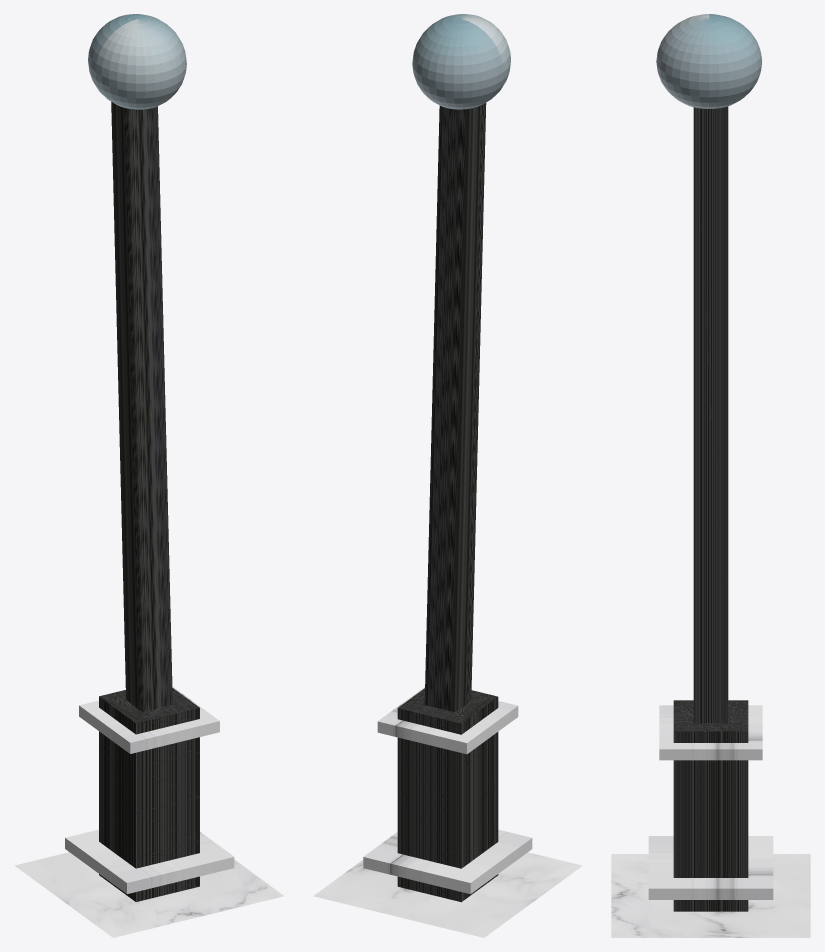
Rendered from Lampara.fbx.
3 renders of one model, left to right at view 1: azimuth 30°, elevation 25°; view 2: azimuth 150°, elevation 25°; view 3: azimuth 270°, elevation 25°, orthographic.
Visible parts, largest first — view 1: Plane; view 2: Plane; view 3: Plane.
Part boxes in pixels (x1=…): Plane: x1=14, y1=14, x2=284, y2=937; Plane: x1=313, y1=14, x2=582, y2=937; Plane: x1=611, y1=14, x2=810, y2=937.
Size of the model in its own units: 400 by 1931 by 400.
3 materials, 3 textured.
